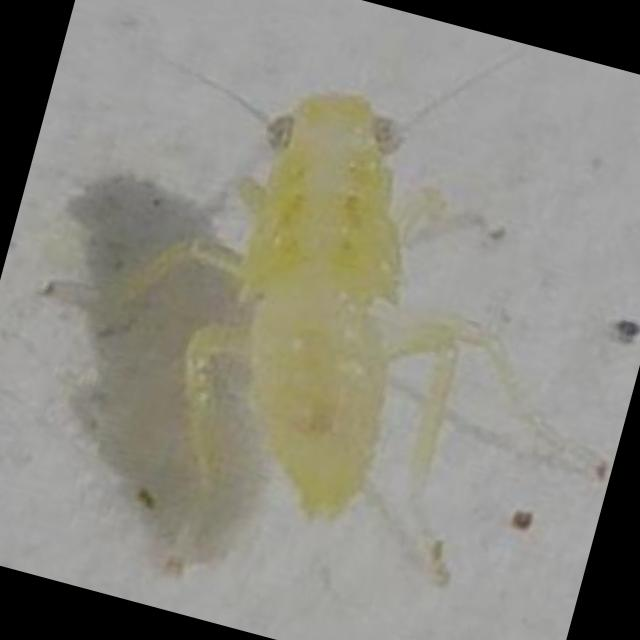green-leafhopper: (155, 53, 476, 535)
